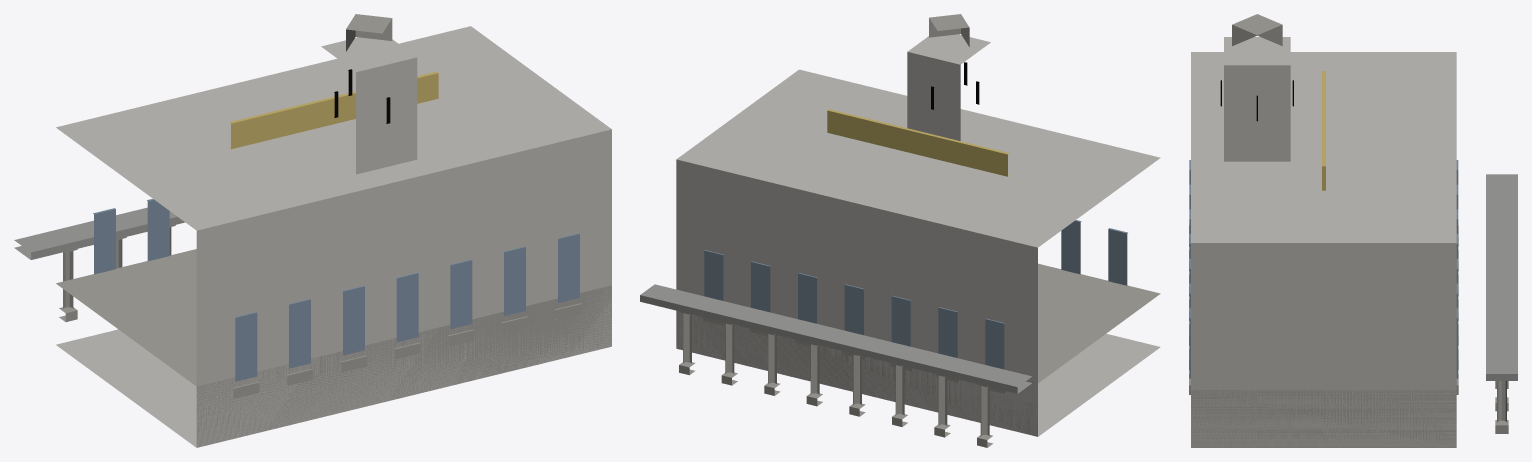
File: transit_station.glb
3 renders of one model, left to right at view 1: azimuth 30°, elevation 25°; view 2: azimuth 150°, elevation 25°; view 3: azimuth 270°, elevation 25°, orthographic. The views are drawn at different scales.
Visible parts, largest first — view 1: transit_station; view 2: transit_station; view 3: transit_station.
Part boxes in pixels (x1,y1,x2,y2): transit_station: (14, 14, 611, 447); transit_station: (640, 14, 1160, 447); transit_station: (1189, 14, 1517, 447).
Bounding box in the file's own units: 35.5 × 27.2 × 24.74.
